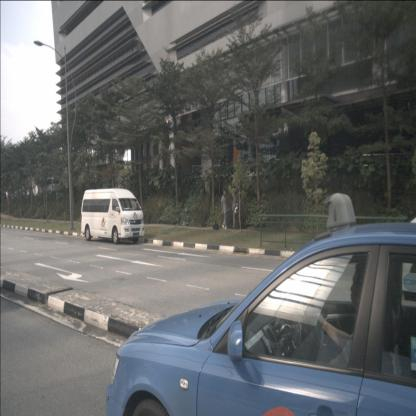human-pedestrian-adult: (221, 190, 230, 230), (231, 190, 239, 230)
vehicle-car: (103, 223, 416, 416), (81, 187, 145, 245), (42, 178, 60, 194)
